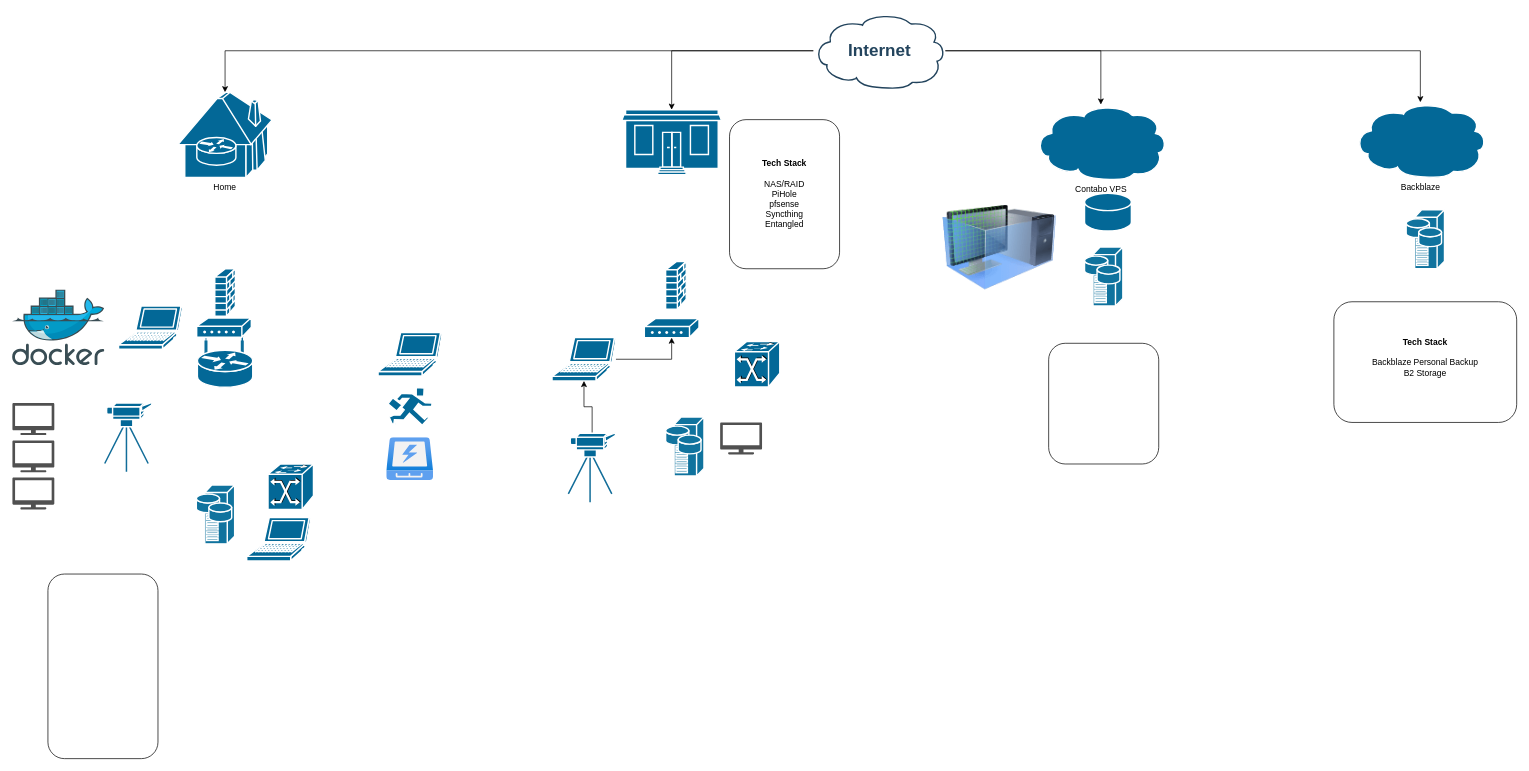
This 1529x771 diagram has some shape labels left out. The centre of each missing label's shape, as x and y in pixels:
Office: the point at 671,142
Tech Stack NAS/RAID PiHole pfsense Syncthing Umbrel Backblaze Hardware Software: the point at 102,666
Tech Stack PostreSQL Database Nextcloud Mattermost Matrix Server: the point at 1103,403
